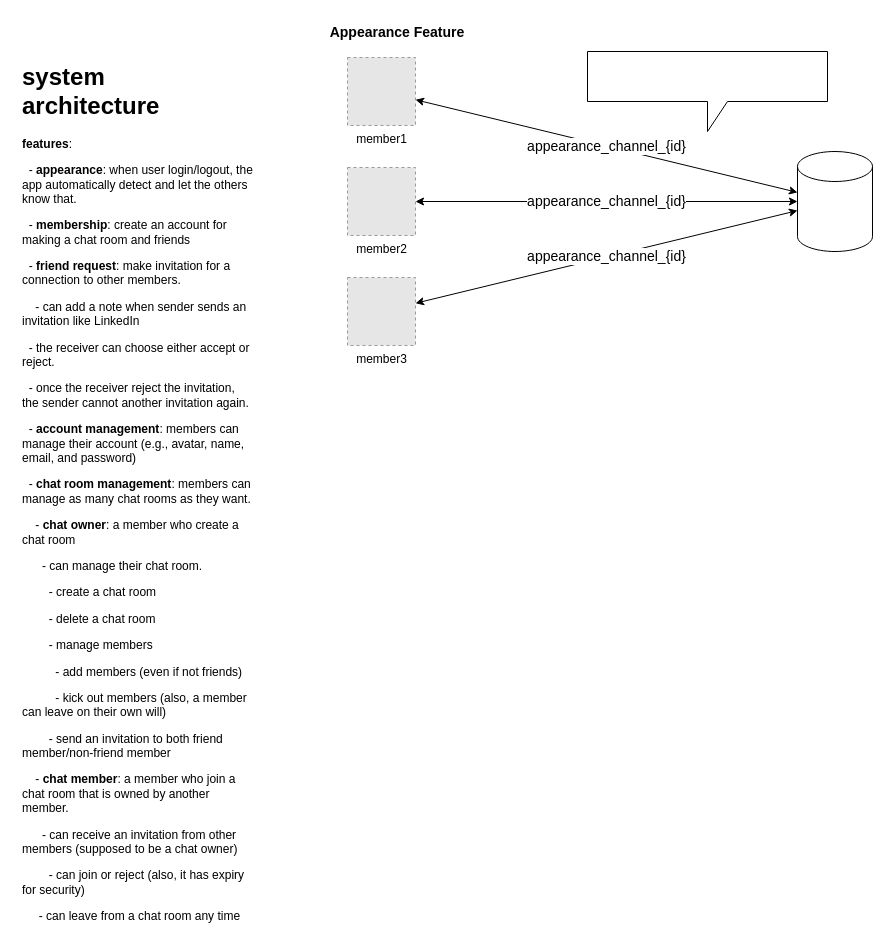
Image size: 890x944. Some labels were removed from this diagram. Grey dashed boxes stand in for pictures. Here are the shapes that lost their labels. From the top down, the centre of each, then its label:
At (x=707, y=91): "each client has different channel to detect online/offline".
At (x=834, y=201): "API".
